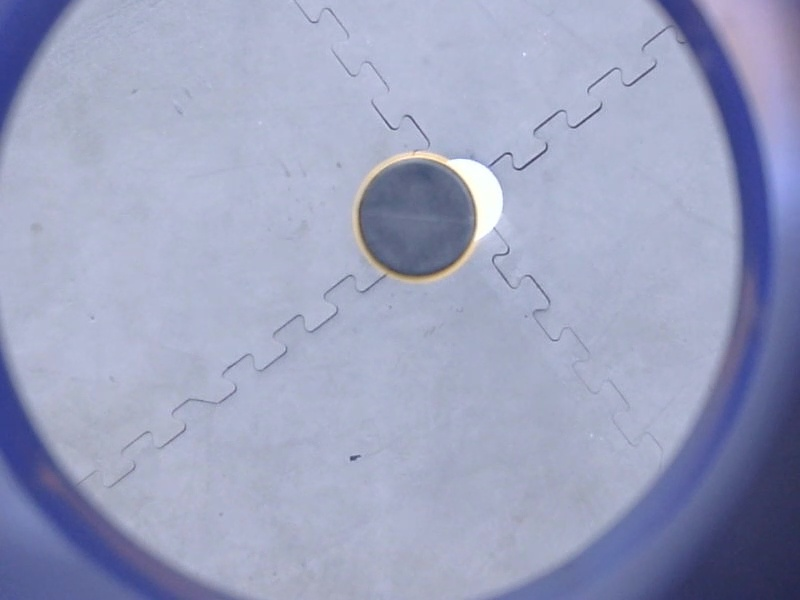tip: (344, 143, 491, 286)
